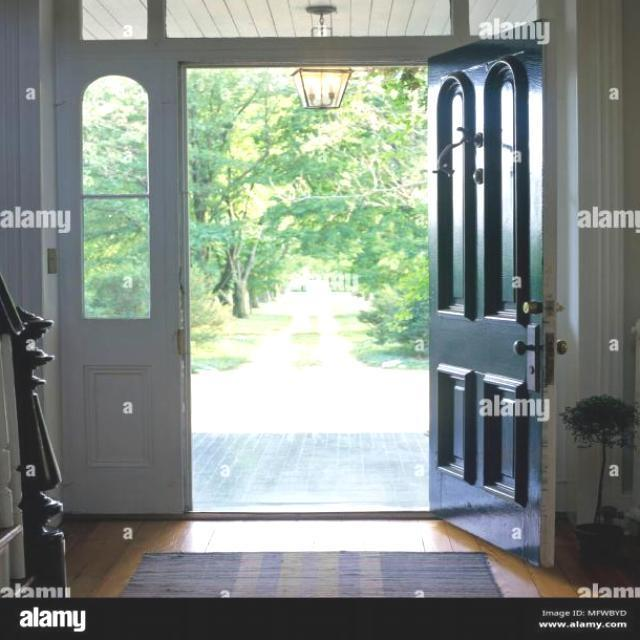door: (426, 37, 547, 565)
